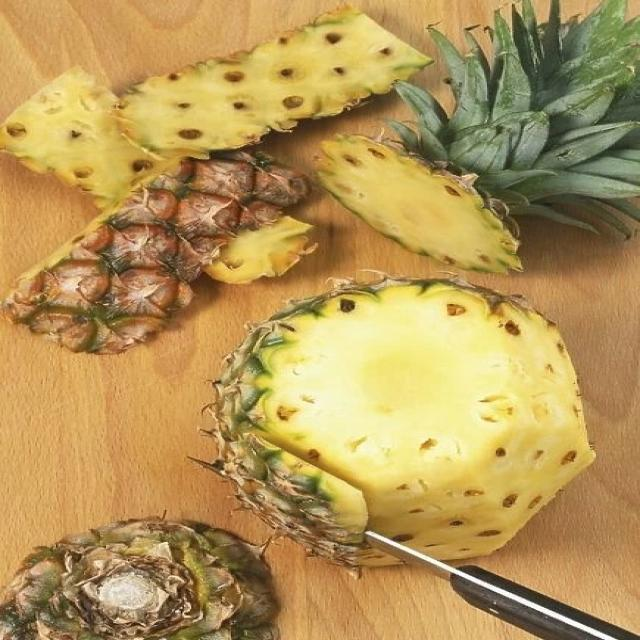Wet: (190, 274, 596, 580), (310, 0, 640, 272), (2, 148, 310, 356), (117, 6, 431, 157), (0, 511, 282, 640), (0, 65, 190, 214)
